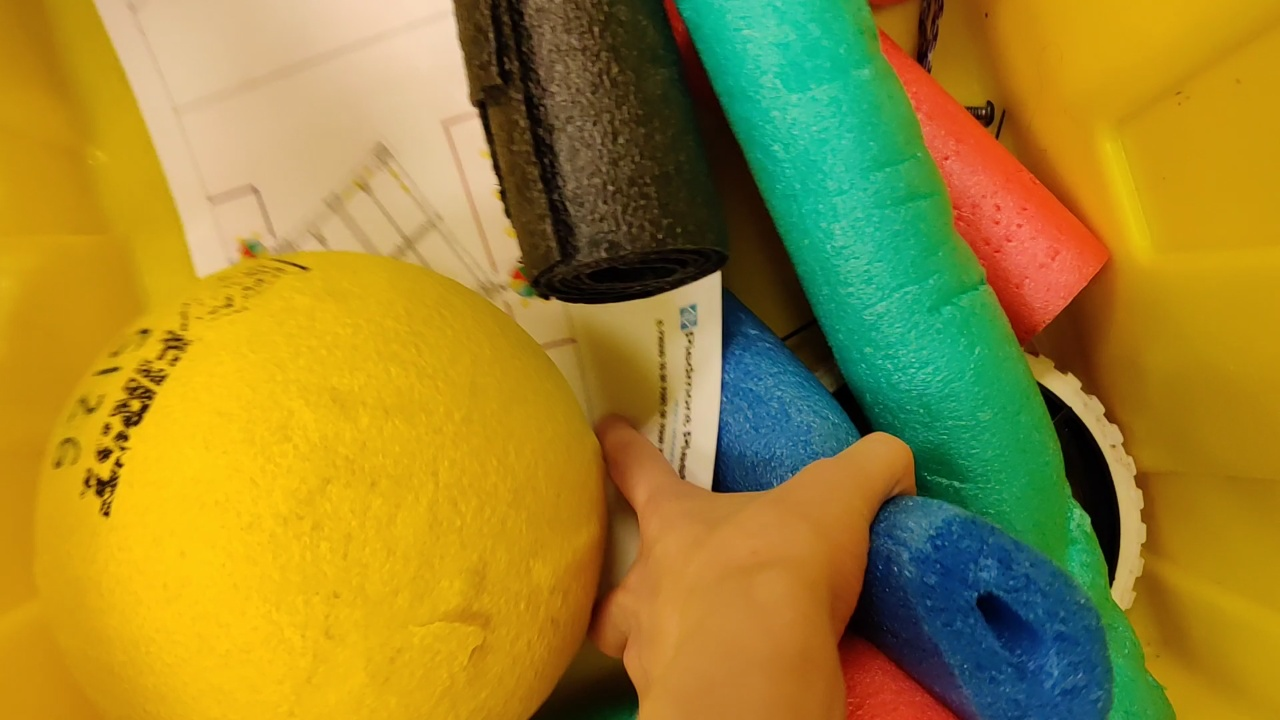Ball: (37, 255, 606, 720)
